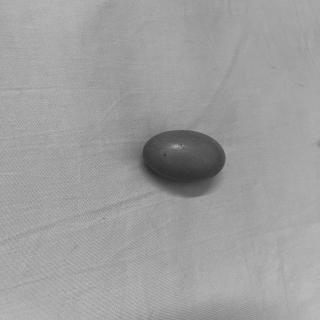Telur: (141, 125, 232, 187)
